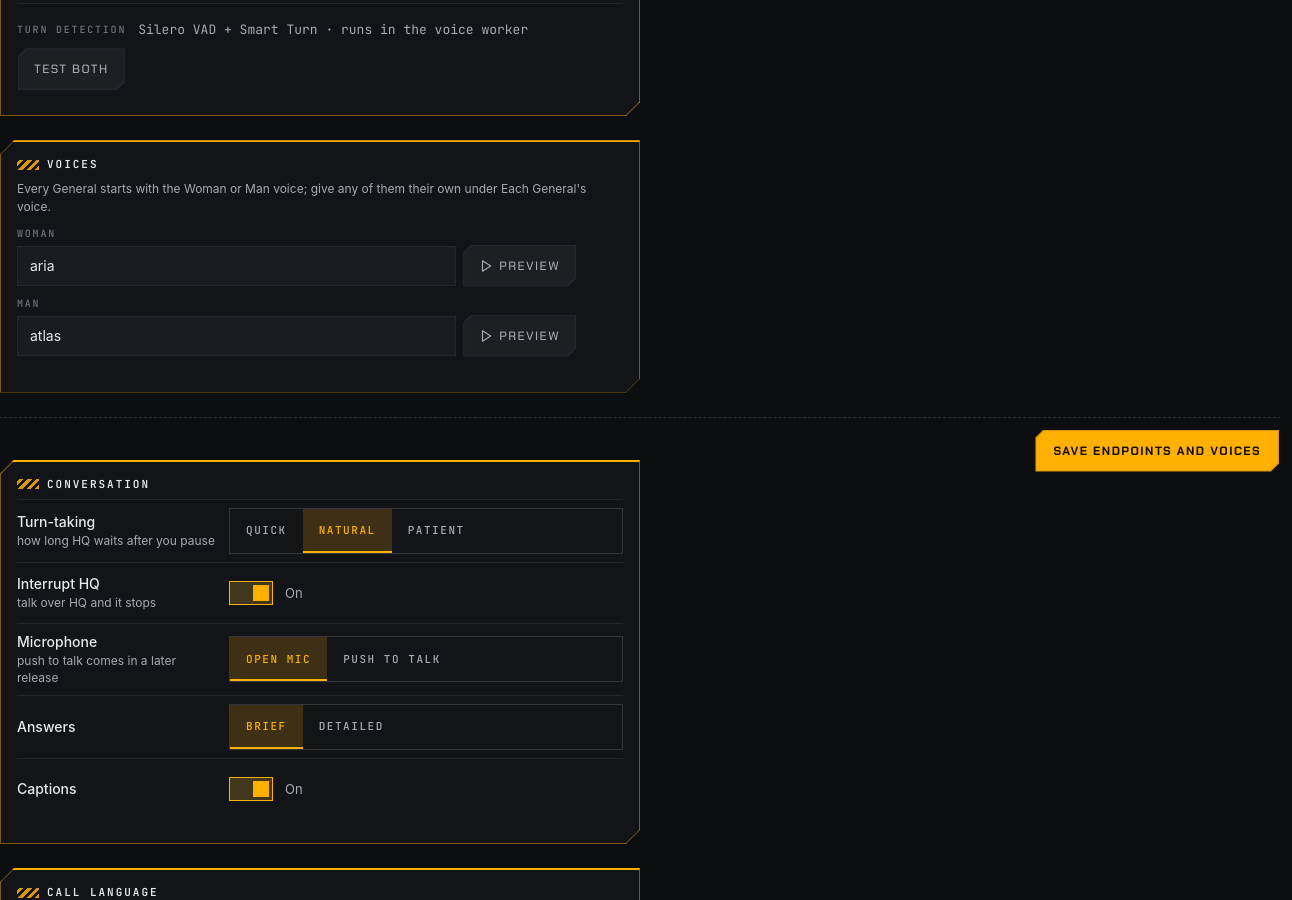
Test case: the server's refusal is shown
(page scrolled)
Click the button with test id "hq-calls-save".
click(1157, 450)  # box [1034, 428, 1280, 472]
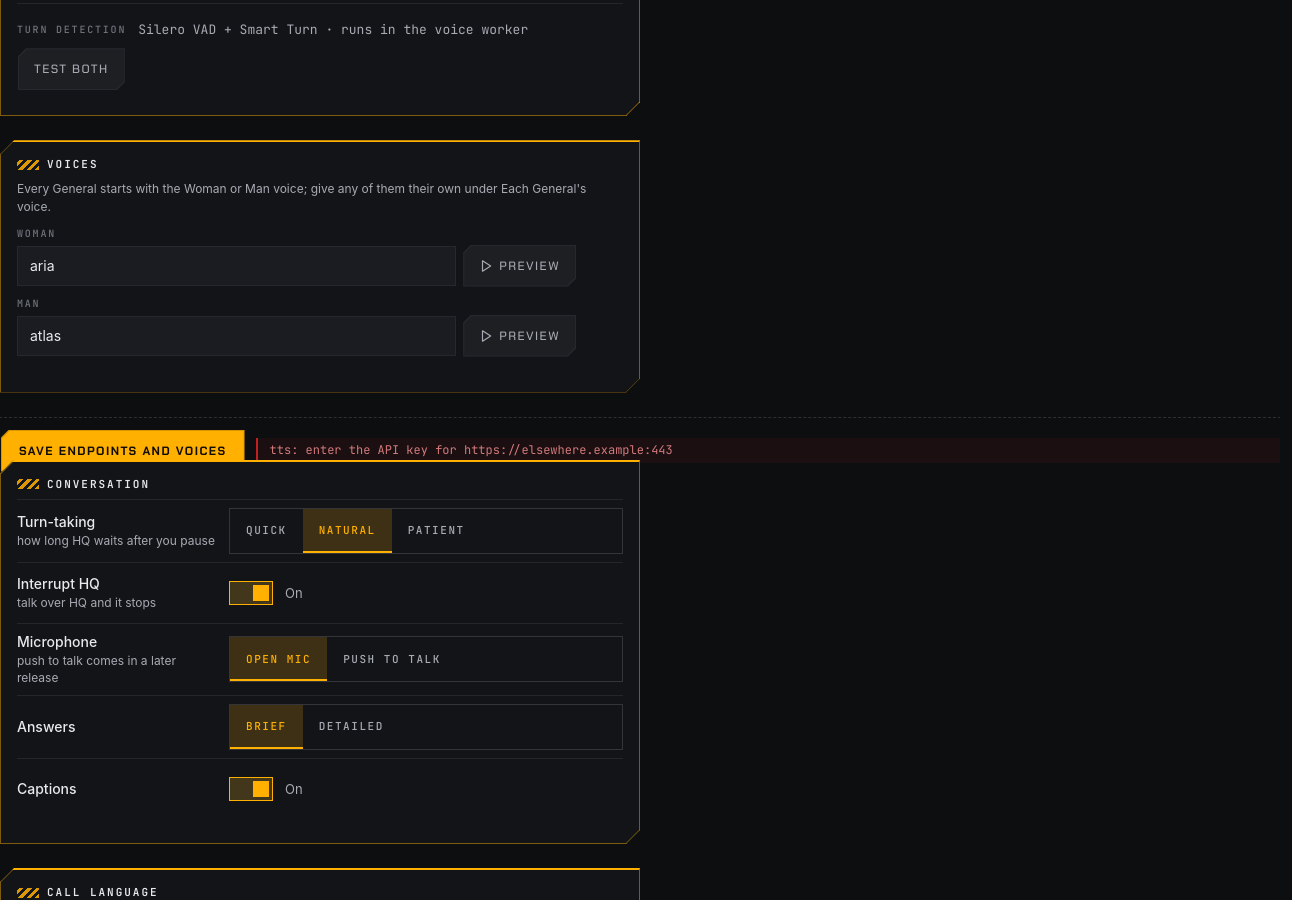
Check: the message with test id "hq-calls-save-msg" shows "enter the API key for https://elsewhere.example:443", box [270, 442, 673, 458]
